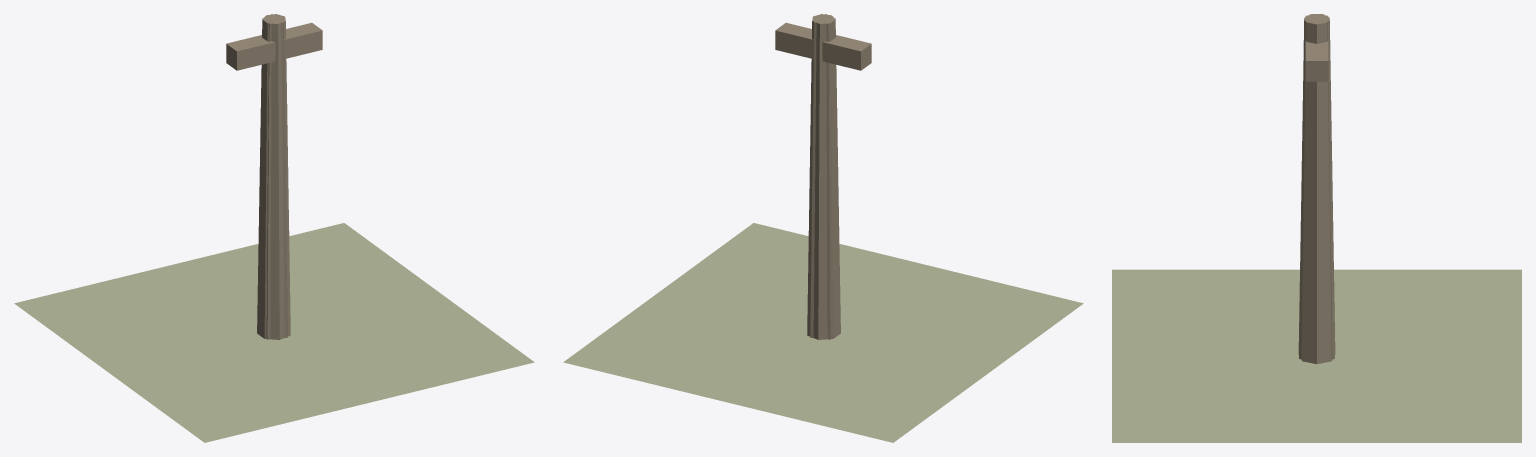
The picture shows the model from 3 angles, left to right: view 1: azimuth 30°, elevation 25°; view 2: azimuth 150°, elevation 25°; view 3: azimuth 270°, elevation 25°; orthographic projection. The views are drawn at different scales.
Visible parts, largest first — view 1: Near, Far; view 2: Near, Far; view 3: Near, Far.
Part boxes in pixels (box(x1,y1,x2,y2)): Near: box(14, 14, 534, 442); Far: box(262, 14, 287, 339); Near: box(563, 14, 1083, 442); Far: box(810, 14, 835, 339); Near: box(1112, 14, 1521, 442); Far: box(1299, 14, 1334, 359).
Size of the model in its own units: 1 by 0.91 by 1.
